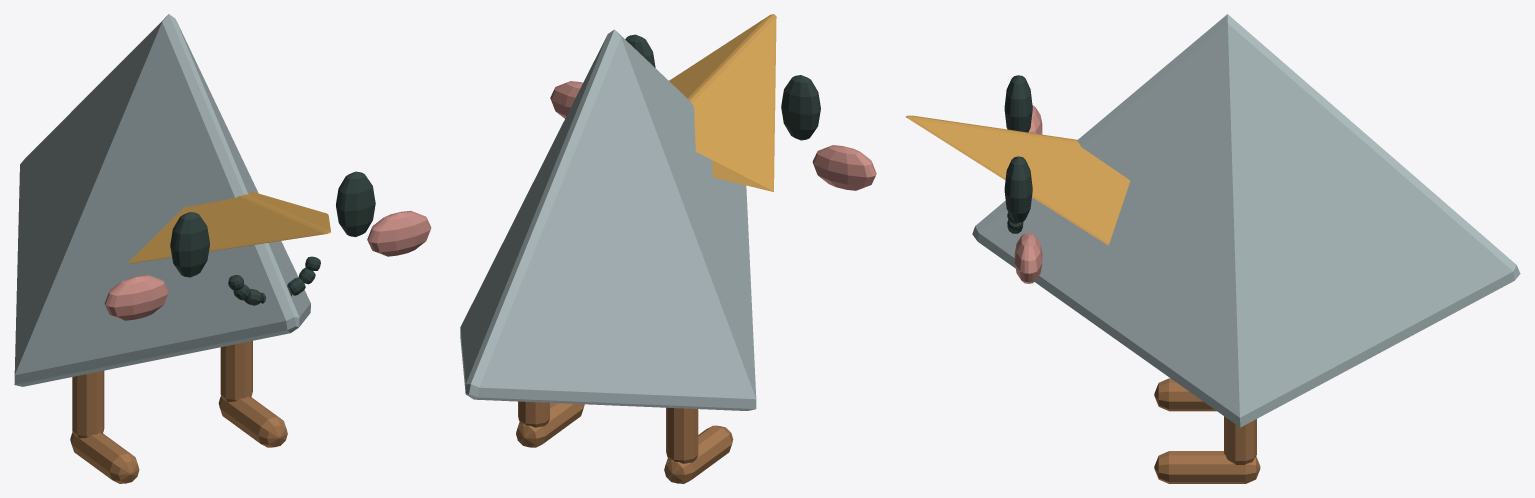
Rendered from pipbird.glb.
3 renders of one model, left to right at view 1: azimuth 30°, elevation 25°; view 2: azimuth 150°, elevation 25°; view 3: azimuth 270°, elevation 25°, orthographic.
Visible parts, largest first — view 1: discovery_Motion.002_Mesh, discovery_Head.002_Mesh, discovery_Eyes.002_Mesh; view 2: discovery_Motion.002_Mesh, discovery_Head.002_Mesh, discovery_Eyes.002_Mesh; view 3: discovery_Motion.002_Mesh, discovery_Head.002_Mesh, discovery_Eyes.002_Mesh.
Boxes of the visible parts, x1,y1,x2,y2 form: discovery_Motion.002_Mesh: (14,14,310,483); discovery_Head.002_Mesh: (104,191,431,320); discovery_Eyes.002_Mesh: (170,171,375,277); discovery_Motion.002_Mesh: (460,29,756,483); discovery_Head.002_Mesh: (550,14,876,191); discovery_Eyes.002_Mesh: (625,34,820,140); discovery_Motion.002_Mesh: (972,14,1520,483); discovery_Head.002_Mesh: (906,105,1130,283); discovery_Eyes.002_Mesh: (1004,75,1032,222).
Size of the model in its own units: 0.57 by 0.7188 by 0.9286.
